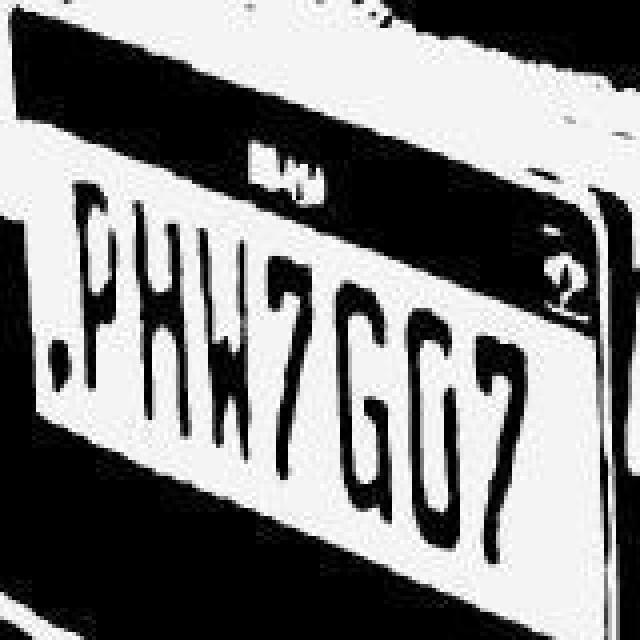7: (256, 246, 328, 498), (468, 336, 532, 576)
D: (398, 308, 466, 564)
G: (324, 250, 396, 534)
H: (132, 186, 196, 454)
P: (66, 166, 126, 410)
W: (196, 202, 260, 470)
